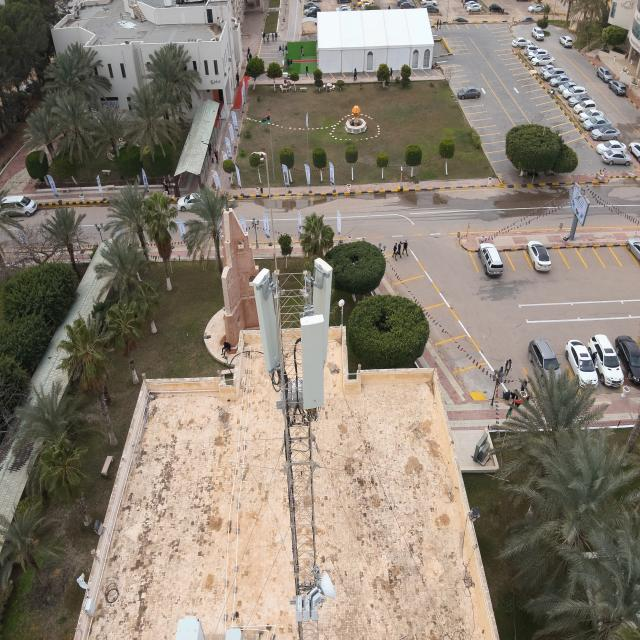antenna: (249, 262, 284, 376), (299, 314, 331, 413), (311, 257, 333, 319)
lighnig-rad: (266, 120, 282, 273)
microware-dish: (310, 571, 337, 606)
power-box: (289, 594, 320, 621)
radio-unit: (273, 378, 303, 410)
